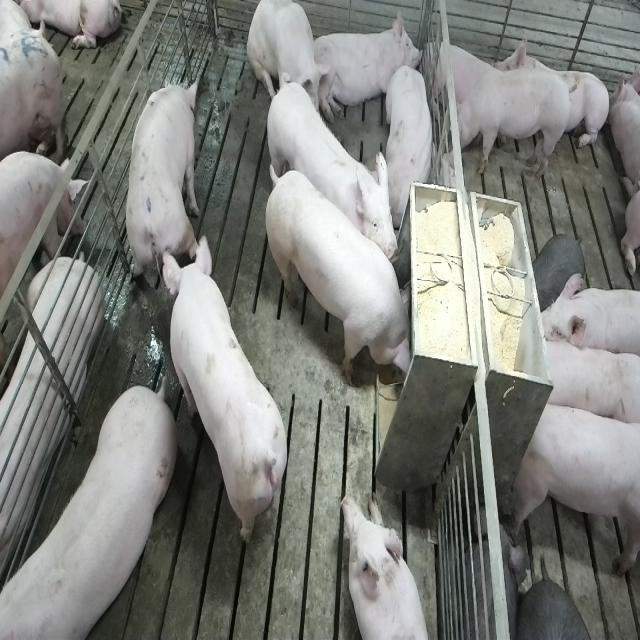Feeding: (269, 164, 421, 389)
Lateral_lying: (0, 144, 100, 588)
Sitting: (246, 1, 332, 133), (383, 63, 437, 221)
Standing: (0, 382, 173, 640), (166, 240, 294, 555), (262, 76, 398, 269), (510, 396, 639, 581), (123, 71, 204, 288), (446, 66, 576, 178), (535, 330, 637, 430), (535, 274, 640, 364)
Sternal_lying: (496, 29, 608, 158), (342, 490, 434, 640), (314, 10, 423, 128), (427, 32, 499, 119)
